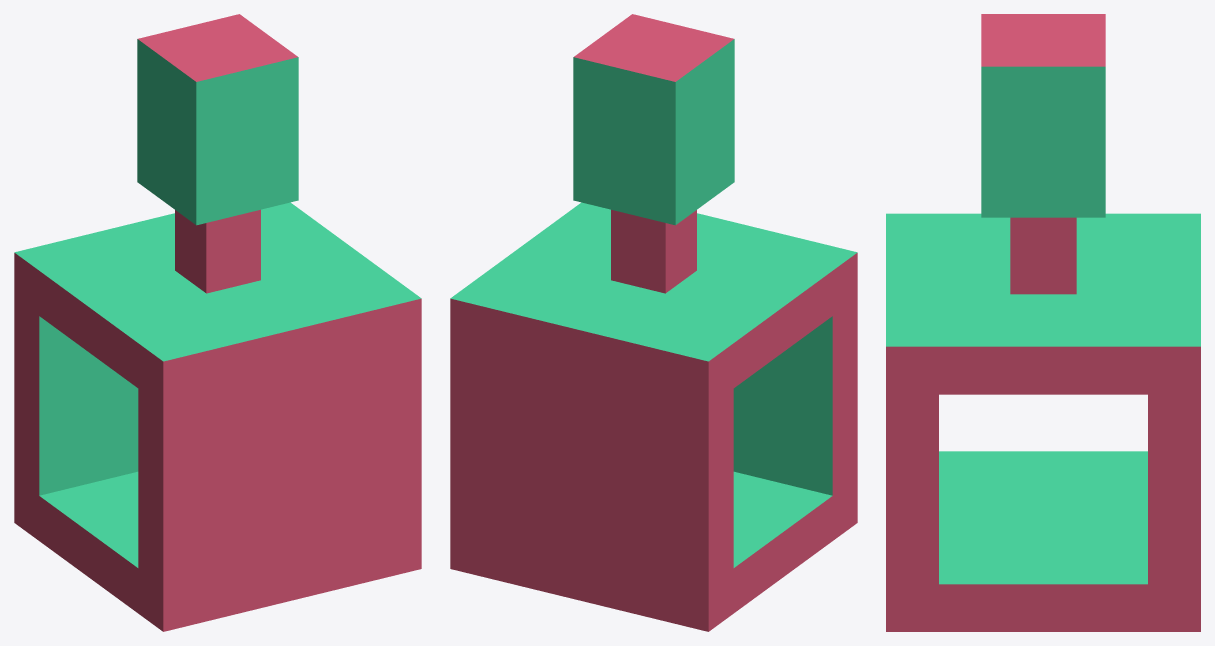
Rendered from odd_cube.glb.
3 views of the same model, side by side, from view 1: azimuth 30°, elevation 25°; view 2: azimuth 150°, elevation 25°; view 3: azimuth 270°, elevation 25° (orthographic). The views are drawn at different scales.
Parts seen in each view (by area): view 1: Cube; view 2: Cube; view 3: Cube.
Boxes of the visible parts, left/top/right/bottom form: Cube: left=14, top=14, right=421, bottom=631; Cube: left=450, top=14, right=857, bottom=631; Cube: left=886, top=14, right=1200, bottom=631.
Size of the model in its own units: 2 by 3.68 by 2.
